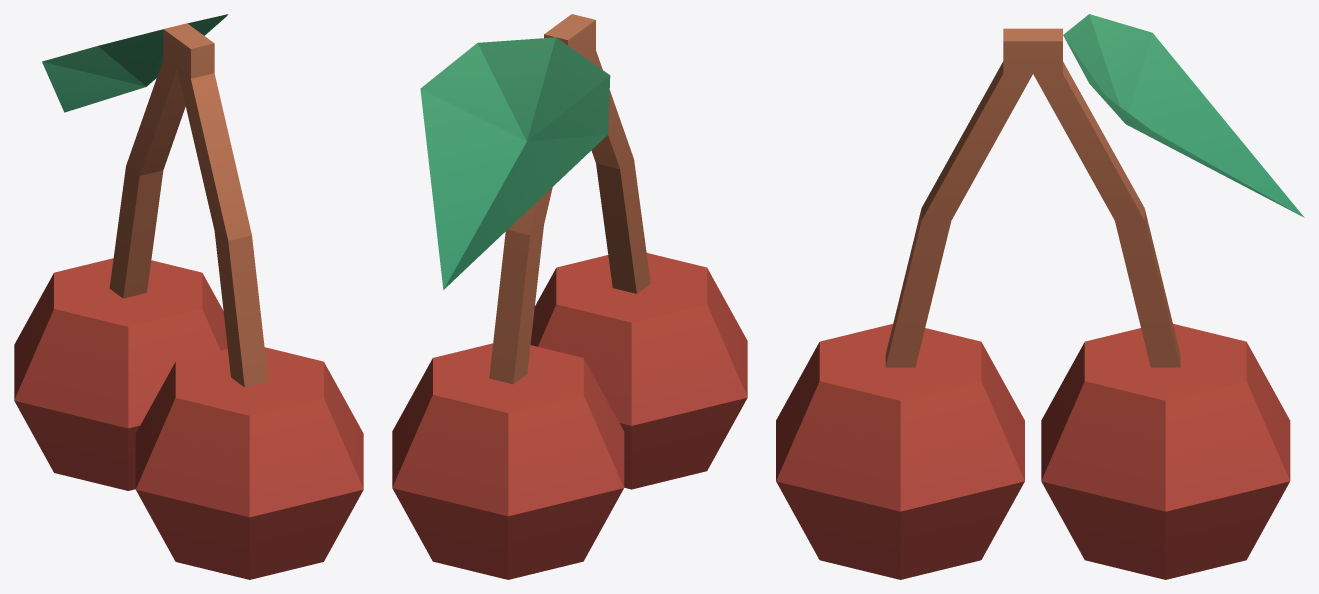
Rendered from cherries.glb.
3 views of the same model, side by side, from view 1: azimuth 30°, elevation 25°; view 2: azimuth 150°, elevation 25°; view 3: azimuth 270°, elevation 25° (orthographic). The views are drawn at different scales.
Visible parts, largest first — view 1: geometry_0; view 2: geometry_0; view 3: geometry_0.
Boxes of the visible parts, <box> form: geometry_0: <box>14,14,363,579</box>; geometry_0: <box>392,14,747,579</box>; geometry_0: <box>776,14,1304,579</box>.
Size of the model in its own units: 0.4279 by 0.83 by 0.7872.
